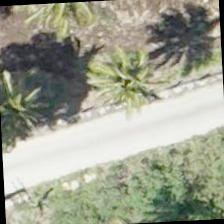Kelapa_Sawit: (84, 36, 179, 130), (0, 59, 67, 153)
